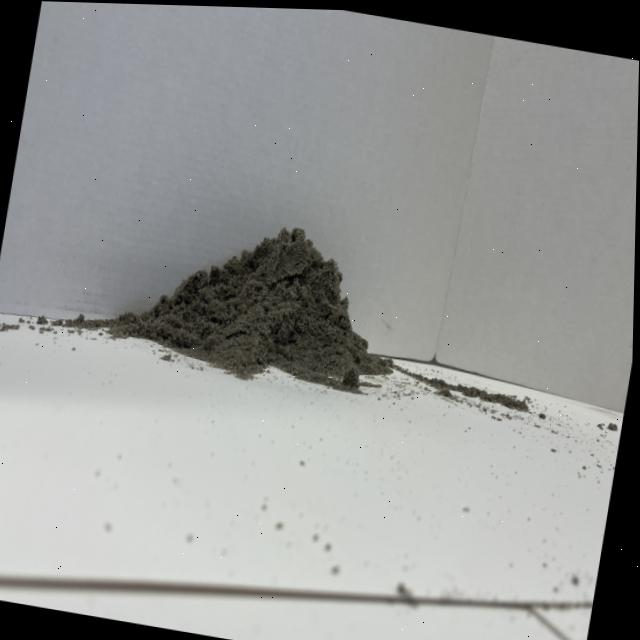sand: (80, 170, 430, 424)
